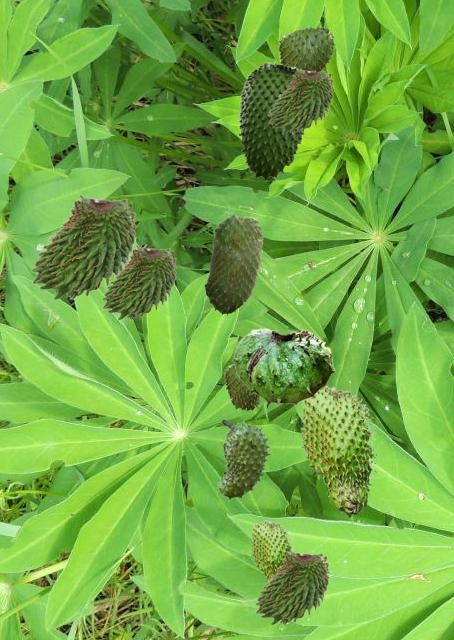guyabano: (30, 193, 136, 299), (299, 385, 377, 517), (232, 328, 334, 408), (238, 61, 304, 180), (204, 214, 263, 314), (101, 244, 176, 319), (254, 549, 329, 624), (216, 419, 271, 500), (267, 67, 333, 133), (250, 520, 294, 584), (278, 25, 335, 70), (224, 363, 262, 411)
